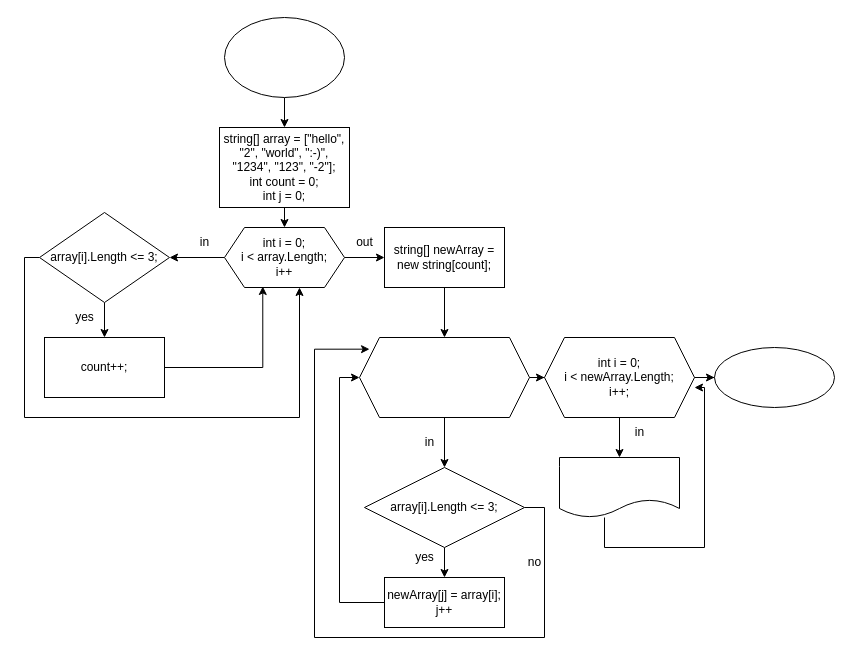
Some shapes in this 852 by 663 pixel diagram are drawn without their labels. Each missing label, with the centre of its shape:
End: [774,377]
int i = 0; i < arraa.Length; i++;: [444,377]
print(newArray[i]): [619,487]
Start: [284,57]
